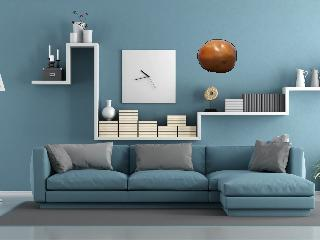potato: (196, 36, 240, 74)
